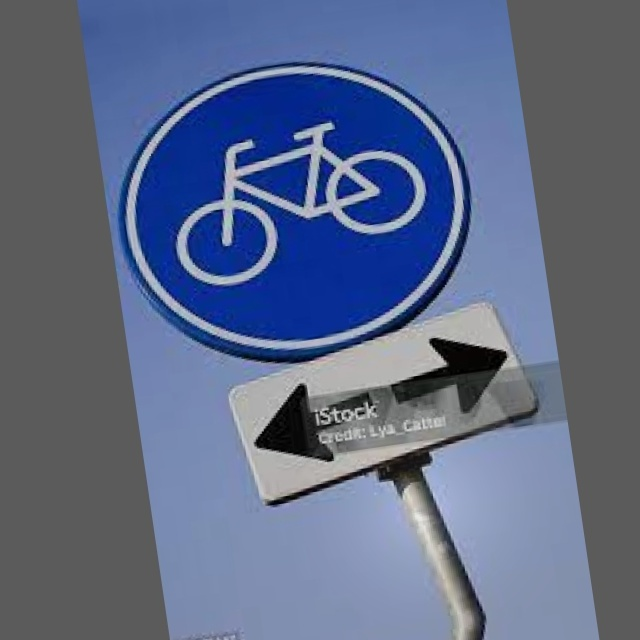Compulsory_Cycle_Track: (107, 39, 490, 345)
